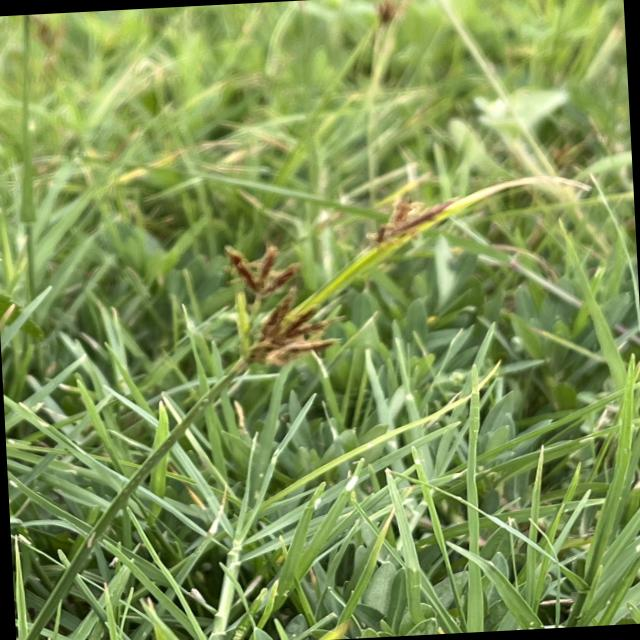cyperus: (187, 193, 456, 389), (365, 0, 412, 36)
